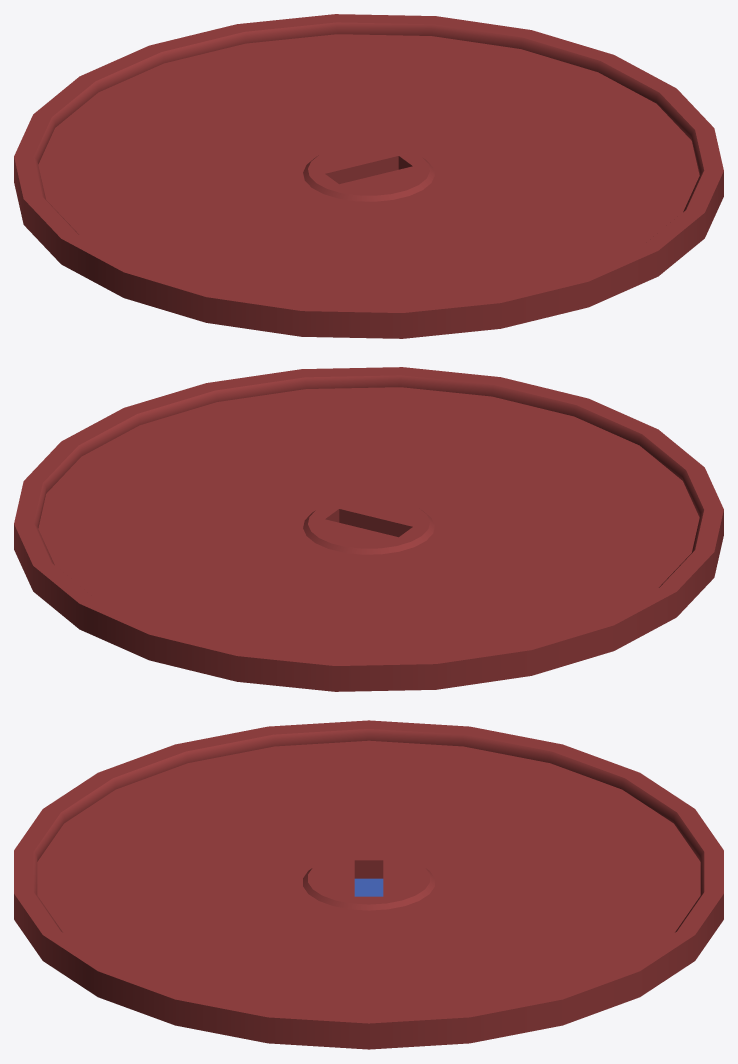
Rendered from egout.FBX.
3 renders of one model, top to bottom at view 1: azimuth 30°, elevation 25°; view 2: azimuth 150°, elevation 25°; view 3: azimuth 270°, elevation 25°, orthographic.
Parts seen in each view (by area): view 1: egout; view 2: egout; view 3: egout.
Boxes of the visible parts, box(x1,y1,x2,y2) form: egout: box(14, 14, 723, 338); egout: box(14, 367, 723, 691); egout: box(14, 720, 723, 1049).
Size of the model in its own units: 50 by 2.06 by 49.49.
